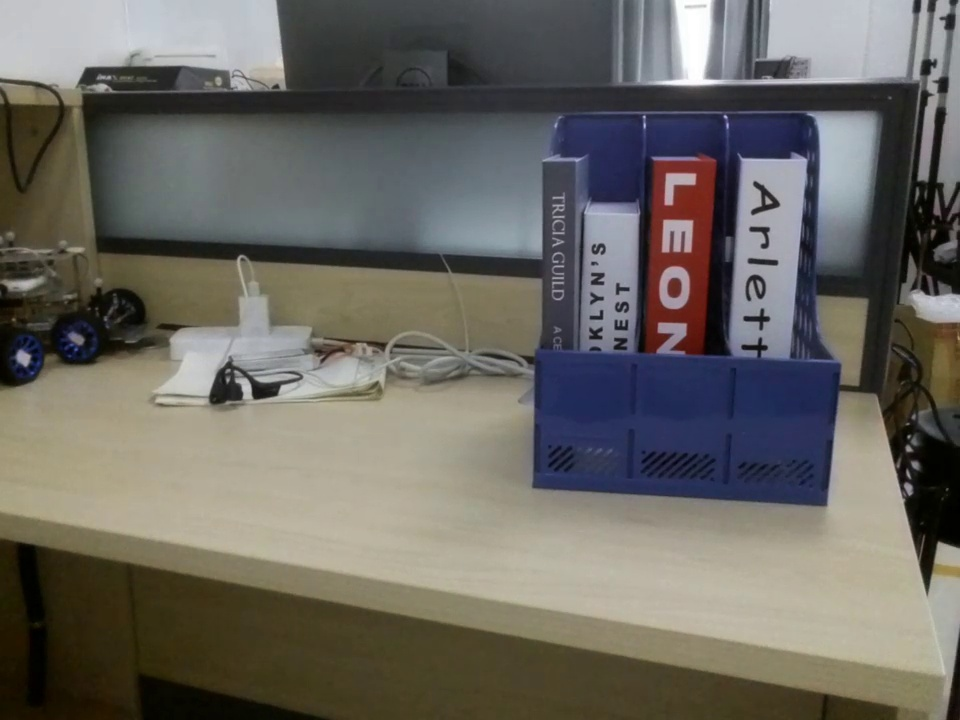files: (529, 109, 844, 511)
